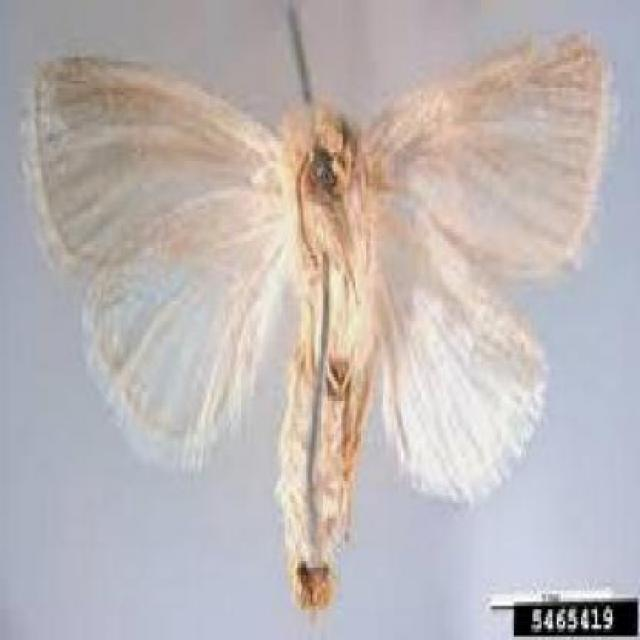stem-borer: (19, 29, 612, 585)
